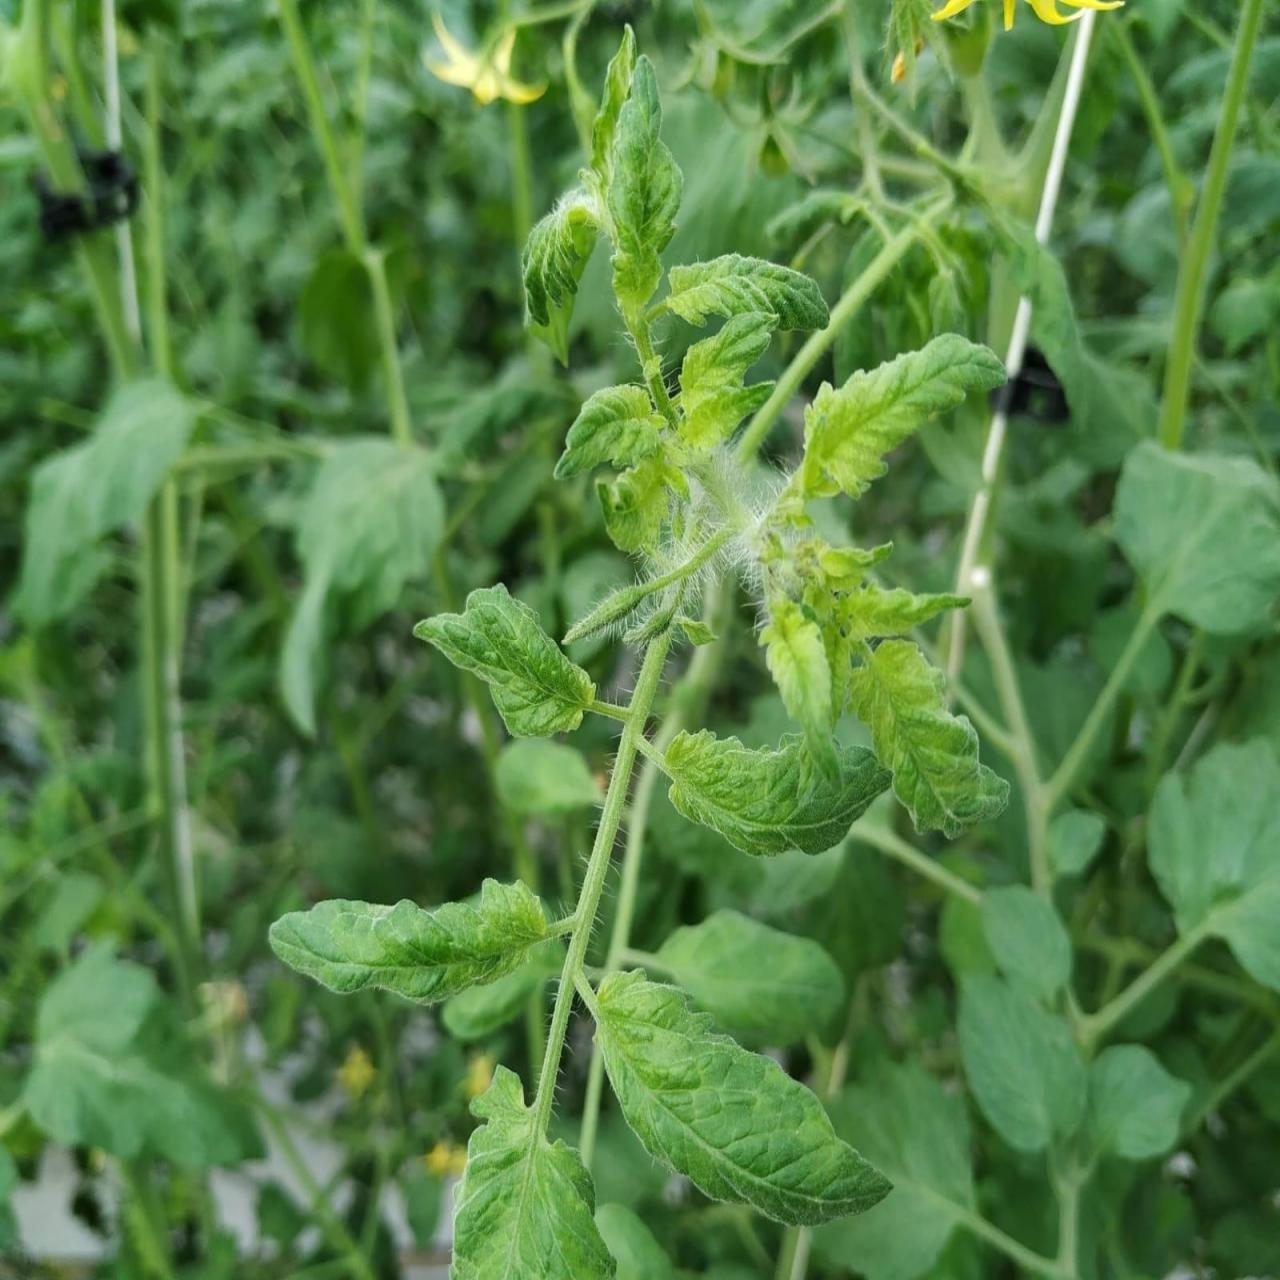T_L_H: (595, 971, 891, 1227), (451, 1068, 617, 1280), (268, 879, 547, 1005), (663, 731, 892, 856), (414, 584, 595, 735)
T_L_R: (792, 332, 1006, 497), (851, 641, 1009, 838), (666, 254, 831, 331), (556, 384, 666, 481)
T_S_H: (536, 634, 670, 1121)
